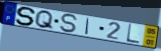2: (105, 22, 122, 41)
I: (84, 17, 90, 36)
L: (125, 23, 141, 45)
Q: (33, 10, 55, 31)
S: (15, 6, 38, 27), (59, 13, 80, 34)
